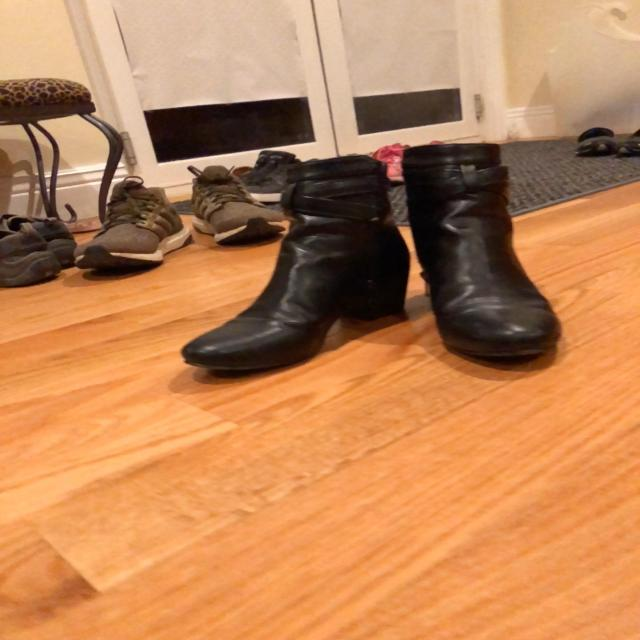shoe: (182, 158, 412, 378), (403, 150, 563, 364), (74, 188, 194, 273), (187, 166, 285, 245)
